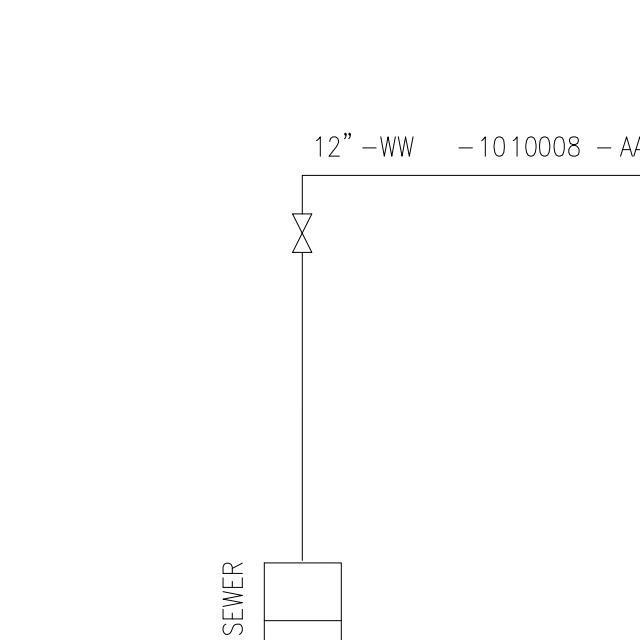GV: (289, 209, 315, 256)
